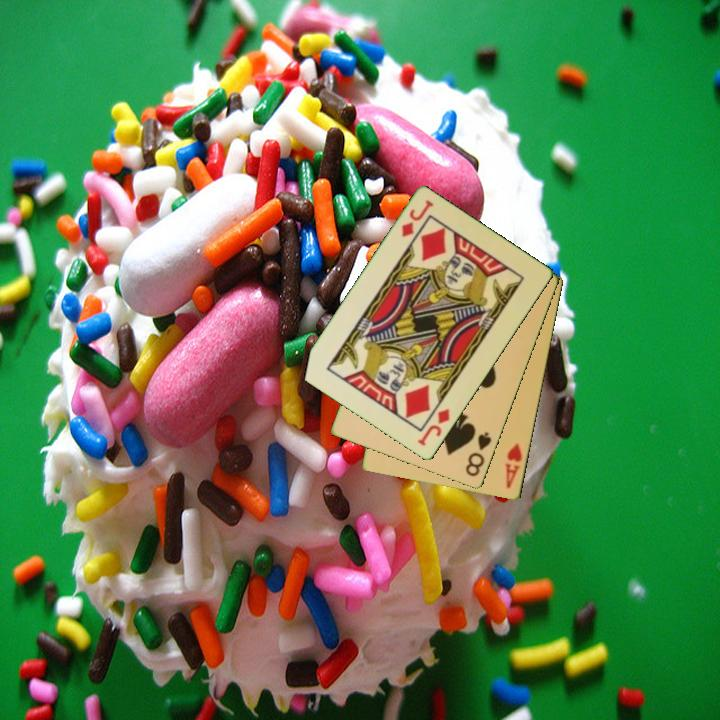8s: (462, 428, 495, 480)
Ah: (502, 440, 525, 492)
Jd: (414, 405, 453, 449), (398, 197, 437, 240)
